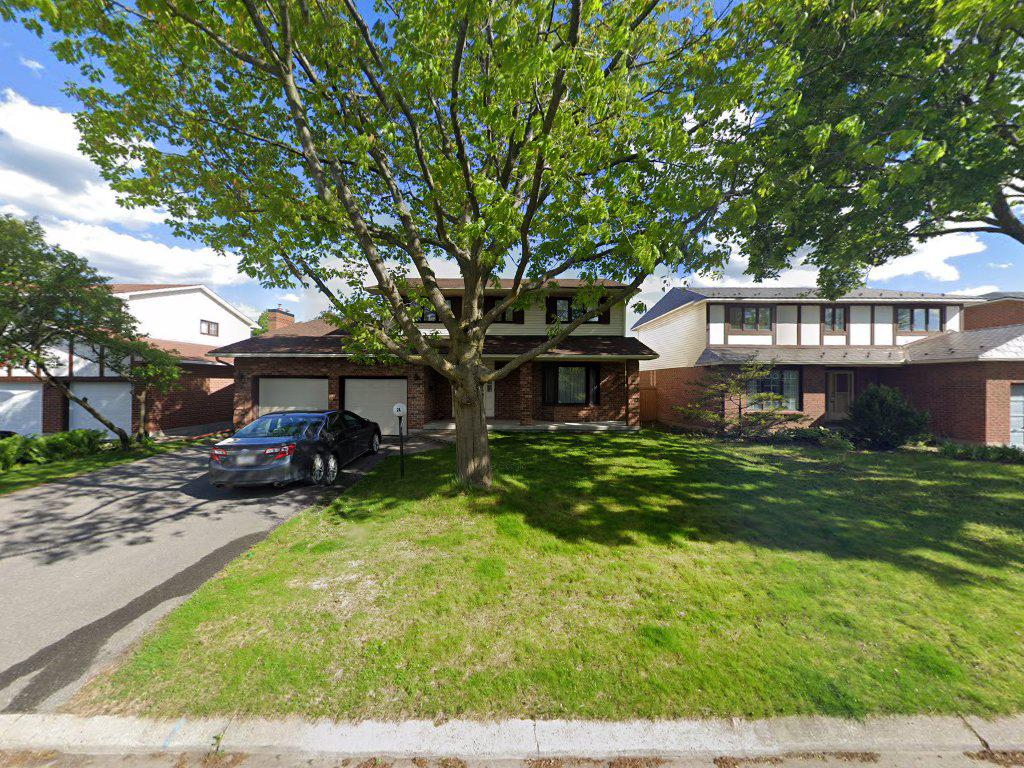trunk: (446, 315, 496, 506)
